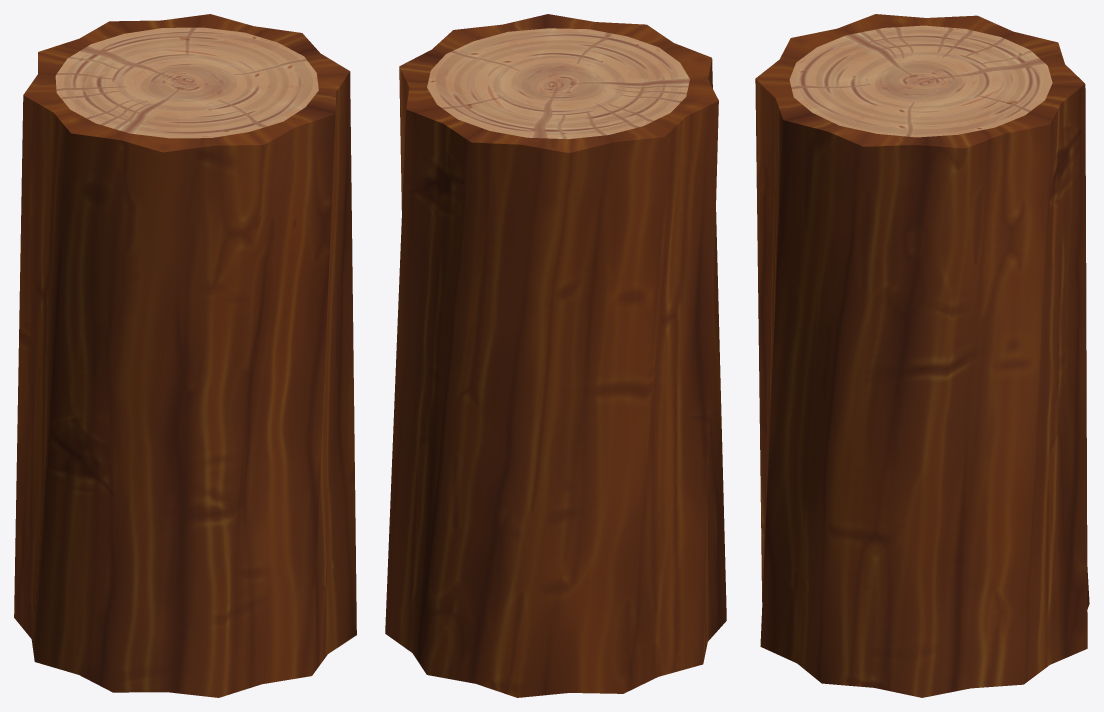
Rendered from obj_harvests_trees_pine01_p03.fbx.
The picture shows the model from 3 angles, left to right: view 1: azimuth 30°, elevation 25°; view 2: azimuth 150°, elevation 25°; view 3: azimuth 270°, elevation 25°; orthographic projection.
Visible parts, largest first — view 1: obj_harvests_trees_pine01_p03; view 2: obj_harvests_trees_pine01_p03; view 3: obj_harvests_trees_pine01_p03.
Part boxes in pixels (x1,y1,x2,y2): obj_harvests_trees_pine01_p03: (14, 14, 356, 697); obj_harvests_trees_pine01_p03: (385, 14, 726, 697); obj_harvests_trees_pine01_p03: (755, 14, 1089, 697).
Size of the model in its own units: 4.59 by 8 by 4.46.
